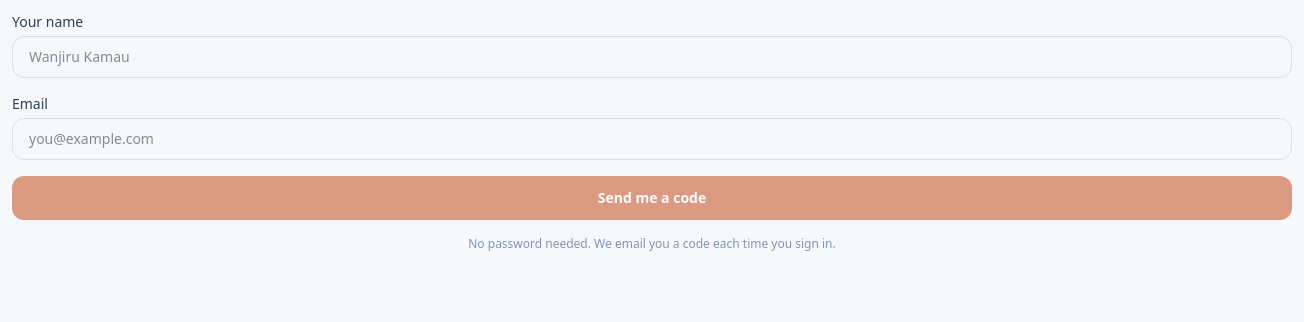
it: JoinForm › refuses a phone immediately rather than after a round trip
Type "0712345678" into the field labelled "Email" at (652, 139), box [12,118,1292,160]
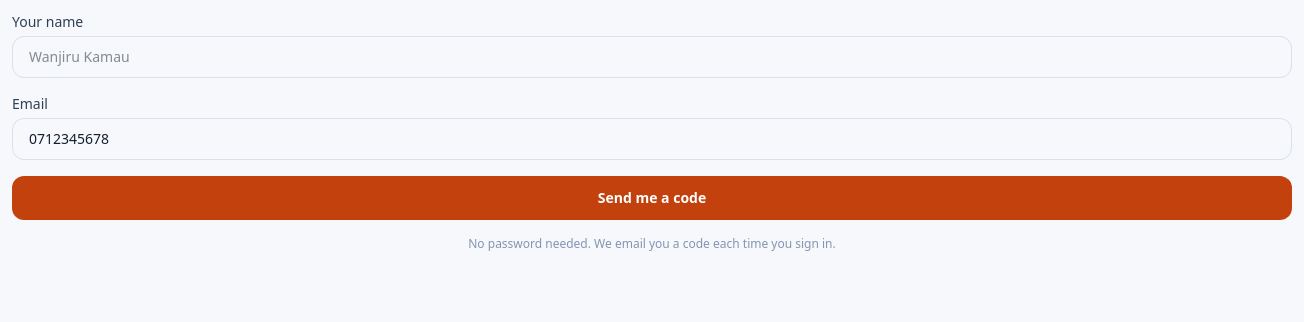
Click the button "Send me a code" at (652, 198), box [12,176,1292,220]
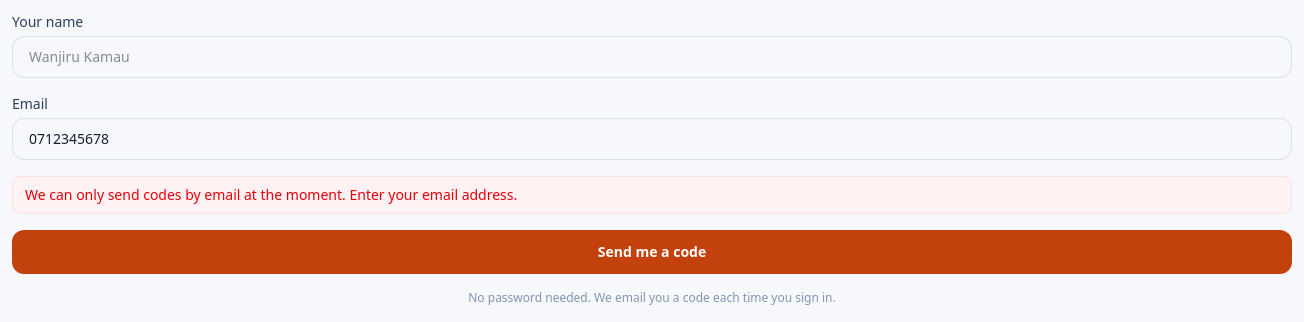
Check: the message shows "only send codes by email", box [25,185,517,204]
